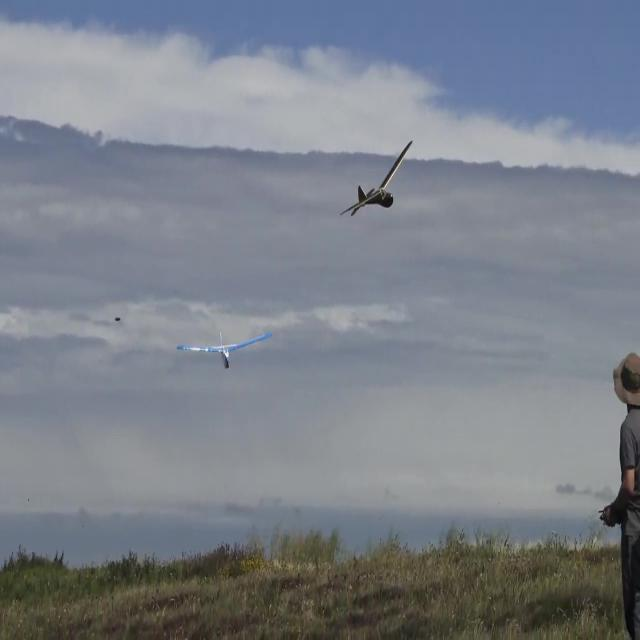iha: (208, 331, 241, 369), (375, 172, 378, 189)
